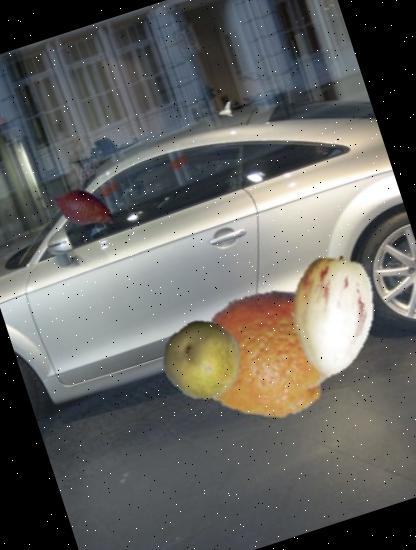Mandarine: (179, 264, 359, 444)
Maracuja: (152, 308, 252, 409)
Pepino: (255, 239, 410, 394)
Salak: (41, 166, 122, 247)
